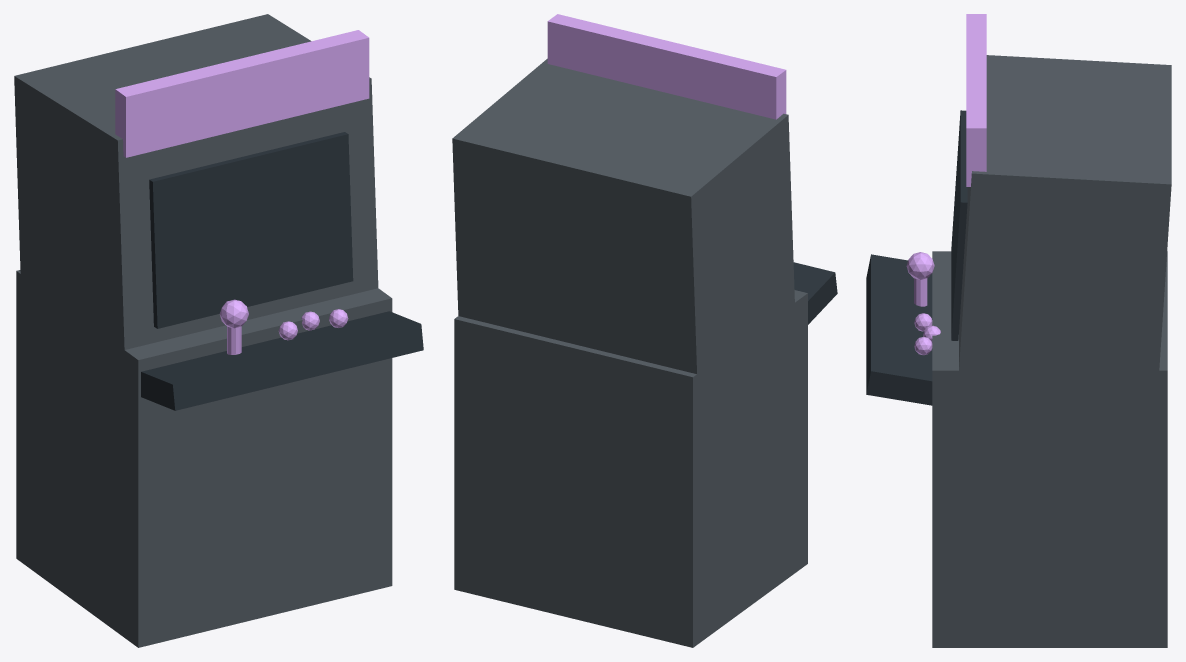
File: arcade-cabinet-lod1.glb
The picture shows the model from 3 angles, left to right: view 1: azimuth 30°, elevation 25°; view 2: azimuth 150°, elevation 25°; view 3: azimuth 270°, elevation 25°; orthographic projection. The views are drawn at different scales.
Visible parts, largest first — view 1: lower_cabinet, upper_cabinet, screen, marquee, control_panel, joystick_ball; view 2: lower_cabinet, upper_cabinet, marquee, control_panel; view 3: lower_cabinet, upper_cabinet, control_panel, marquee, screen, joystick_ball.
Boxes of the visible parts, x1,y1,x2,y2 form: lower_cabinet: (16,270,392,647); upper_cabinet: (14,14,378,366); screen: (149,132,353,328); marquee: (115,30,369,157); control_panel: (141,311,423,410); joystick_ball: (219,299,248,328); lower_cabinet: (454,290,807,647); upper_cabinet: (452,58,795,399); marquee: (547,14,786,119); control_panel: (793,262,837,324); lower_cabinet: (932,251,1167,647); upper_cabinet: (958,55,1171,396); control_panel: (866,254,932,405); marquee: (966,14,986,186); screen: (951,110,967,340); joystick_ball: (906,252,934,279).
Size of the model in its own units: 4.8 by 9.7 by 5.19.
